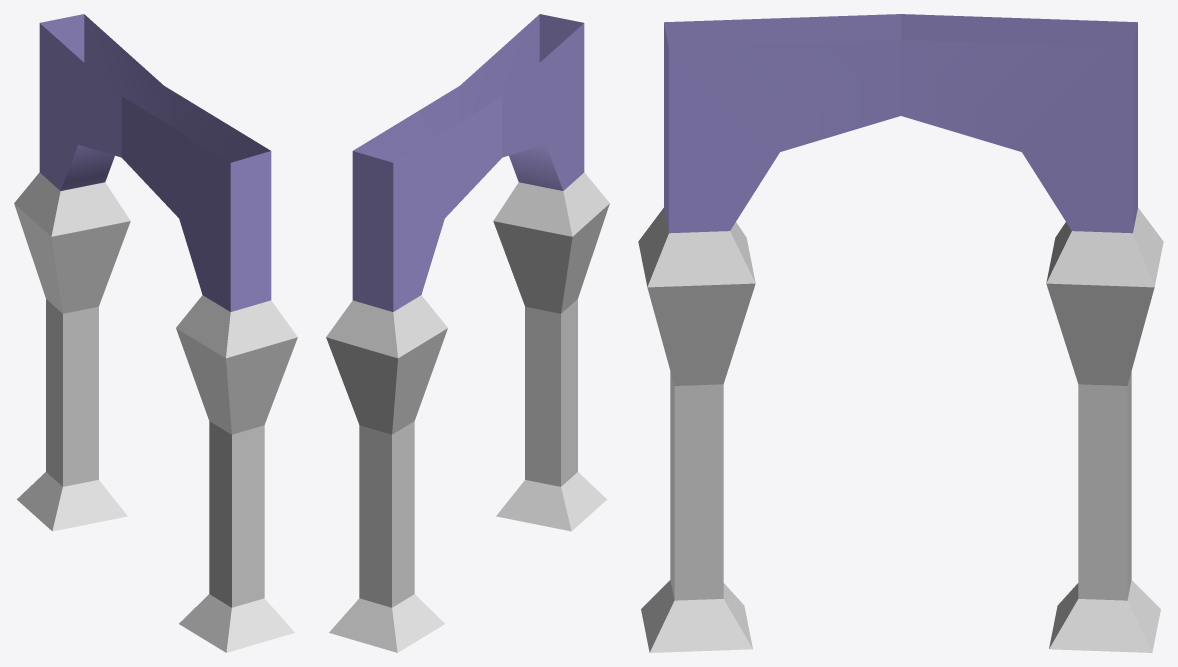
The model's file is Gate Pillars collider.fbx.
3 views of the same model, side by side, from view 1: azimuth 30°, elevation 25°; view 2: azimuth 150°, elevation 25°; view 3: azimuth 270°, elevation 25° (orthographic). The views are drawn at different scales.
Visible parts, largest first — view 1: Gate Pillars collider; view 2: Gate Pillars collider; view 3: Gate Pillars collider.
Part boxes in pixels (box(x1,y1,x2,y2)): Gate Pillars collider: box(14, 14, 297, 652); Gate Pillars collider: box(326, 14, 609, 652); Gate Pillars collider: box(638, 14, 1163, 652).
Bounding box in the file's own units: 133 × 743 × 595.
